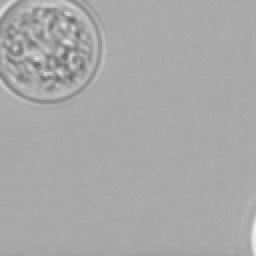picoshell: (0, 0, 104, 106), (250, 214, 254, 254)
